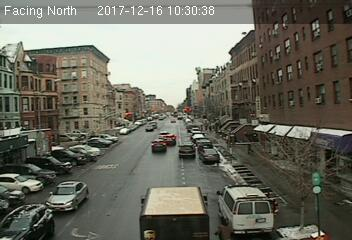car: (45, 180, 88, 210), (199, 147, 219, 163), (177, 143, 195, 158), (151, 138, 166, 151)
police: (217, 180, 274, 238)
ups: (137, 186, 212, 240)
